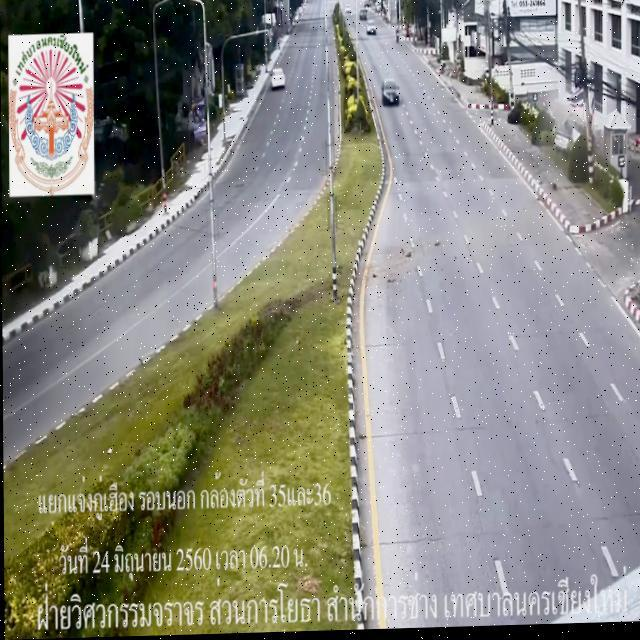normal: (369, 63, 427, 122), (257, 63, 320, 101)
